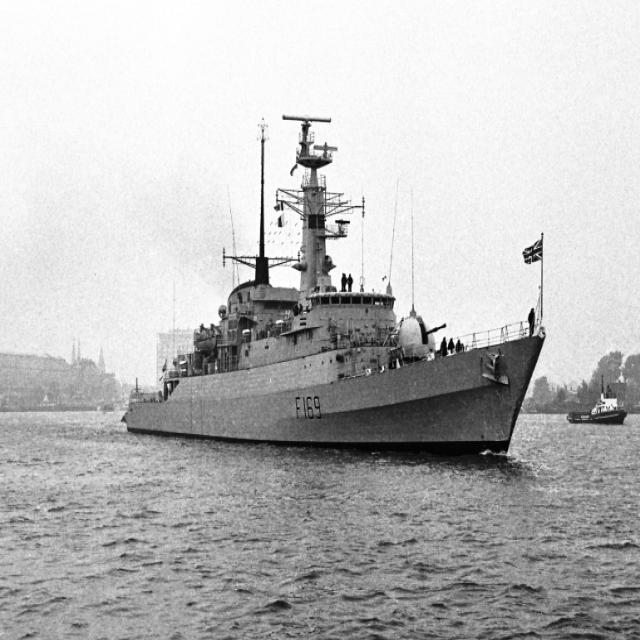Fragata: (121, 105, 550, 463)
